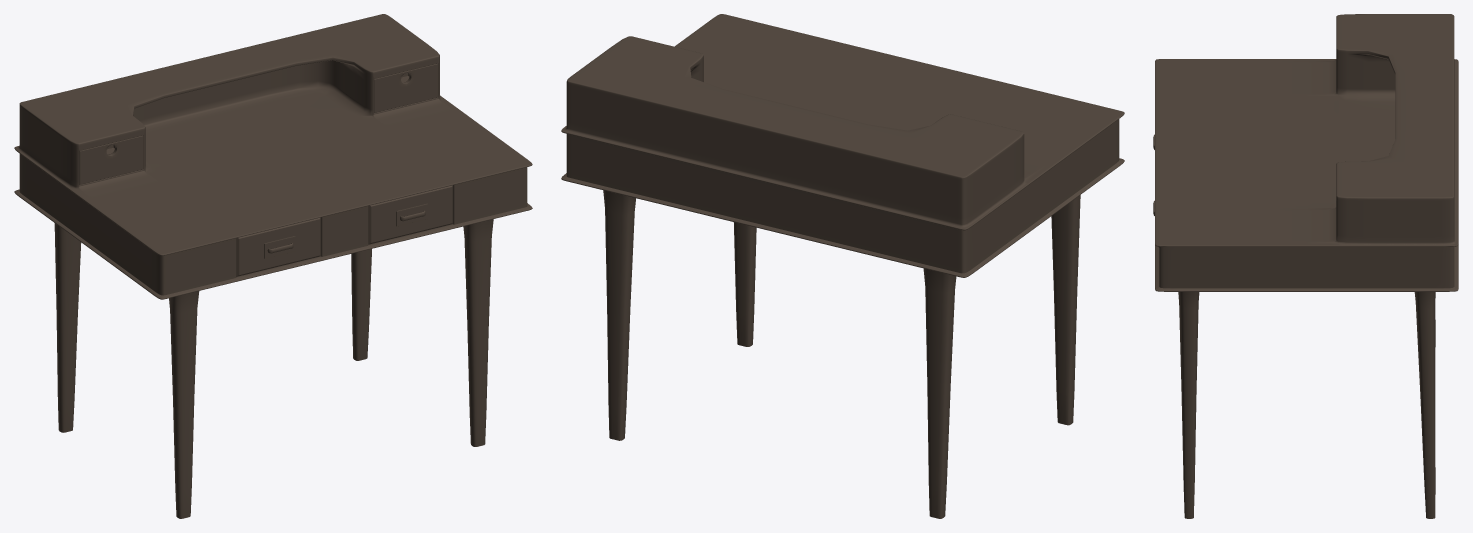
Rendered from desk_highpoly.fbx.
The picture shows the model from 3 angles, left to right: view 1: azimuth 30°, elevation 25°; view 2: azimuth 150°, elevation 25°; view 3: azimuth 270°, elevation 25°; orthographic projection. The views are drawn at different scales.
Parts seen in each view (by area): view 1: desk_body_high, lb_drawer_high, rb_drawer_high, lt_drawer_high, rt_drawer_high; view 2: desk_body_high; view 3: desk_body_high.
Part boxes in pixels (x1,y1,x2,y2): desk_body_high: (14, 14, 532, 518); lb_drawer_high: (236, 217, 320, 276); rb_drawer_high: (368, 185, 452, 244); lt_drawer_high: (79, 135, 143, 184); rt_drawer_high: (374, 63, 437, 112); desk_body_high: (561, 14, 1124, 518); desk_body_high: (1155, 14, 1458, 518).
Bounding box in the file's own units: 104 × 87 × 71.4.
